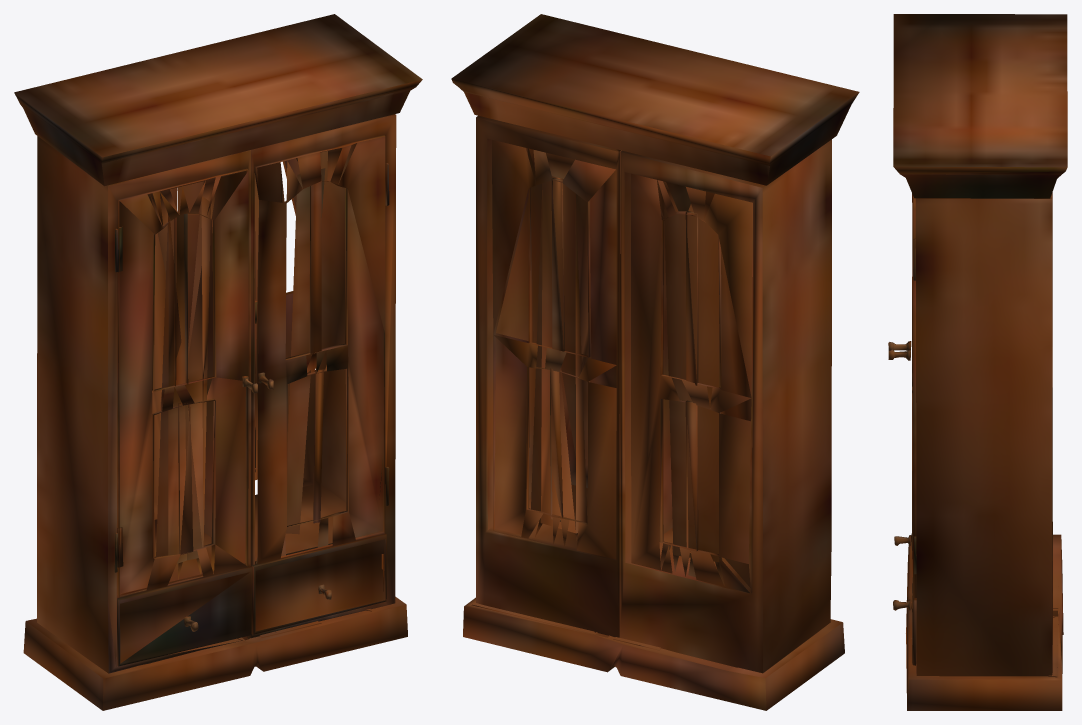
Rendered from wardrobe.lod2.glb.
3 renders of one model, left to right at view 1: azimuth 30°, elevation 25°; view 2: azimuth 150°, elevation 25°; view 3: azimuth 270°, elevation 25°, orthographic. The views are drawn at different scales.
Size of the model in its own units: 1.2 by 2 by 0.5931.
1 material, 1 textured.
